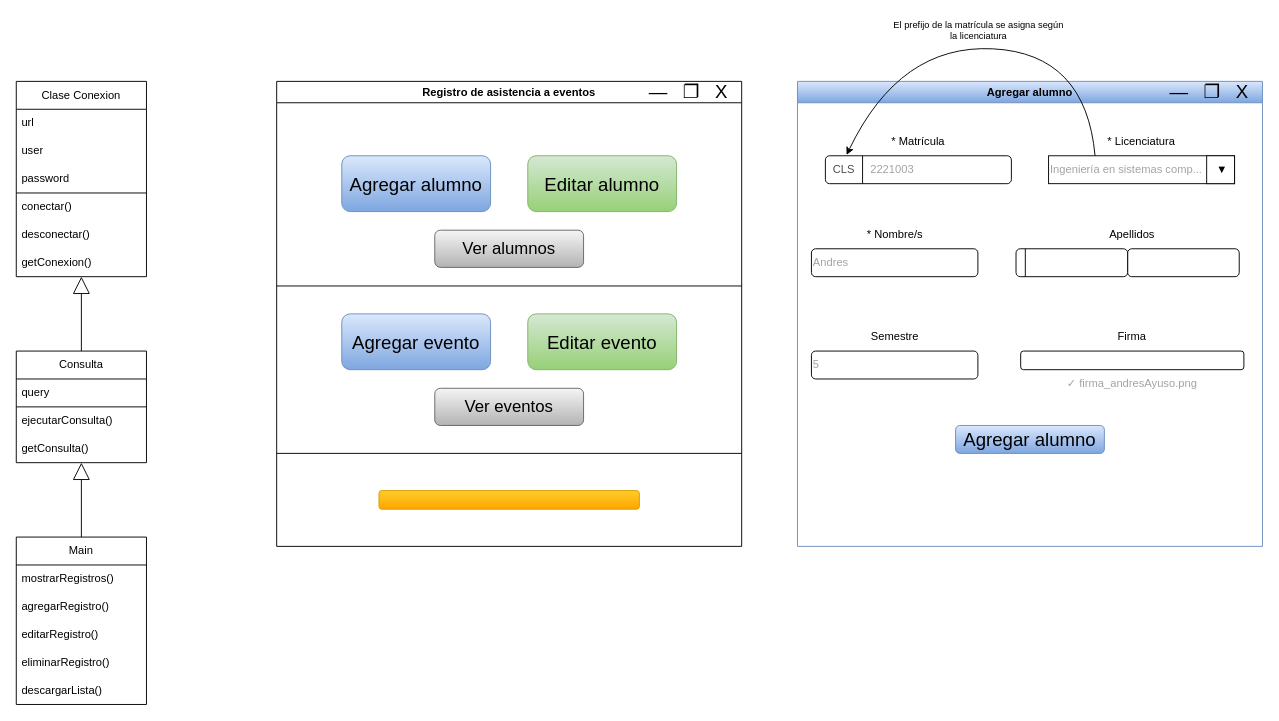
The diagram is 1279 pixels wide and 721 high, and some of its shapes have lost their labels. The shapes that lost their labels are listed below. From the top down, each one's centre as x and y in pixels, then its label:
At (x=1071, y=262): "* Ayuso".
At (x=1132, y=360): "Seleccionar archivo .png".
At (x=508, y=499): "Descargar lista de asistencia".
